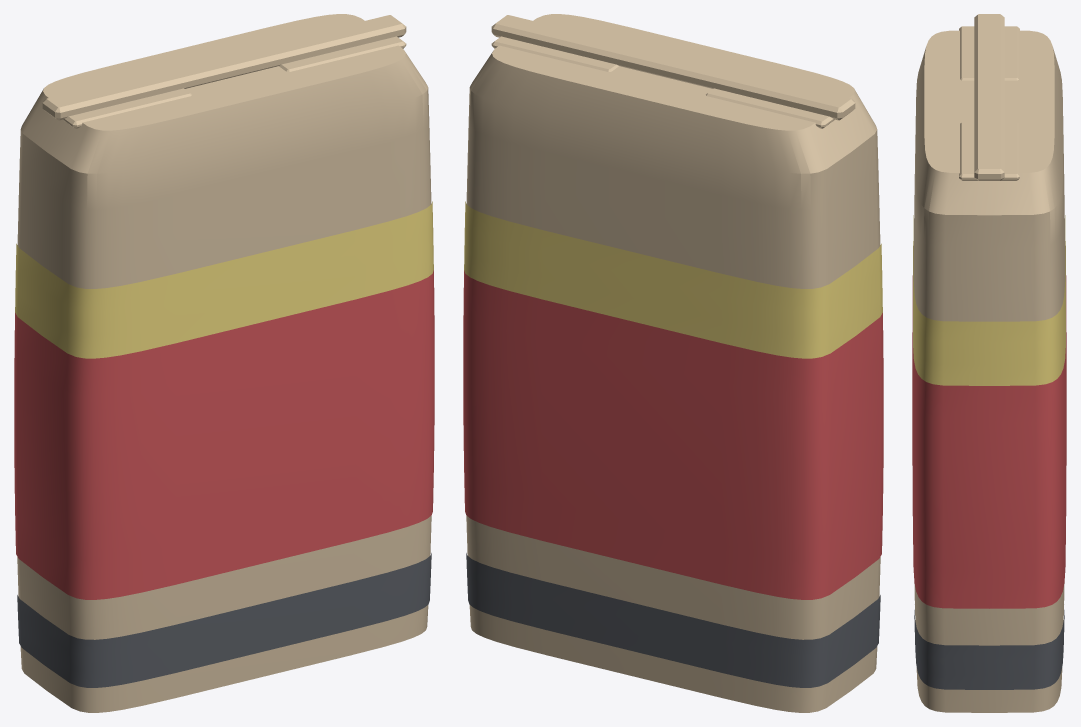
File: fresh-produce-and-groceries-cereal-box-bb7044b3__24421.glb
3 views of the same model, side by side, from view 1: azimuth 30°, elevation 25°; view 2: azimuth 150°, elevation 25°; view 3: azimuth 270°, elevation 25° (orthographic). The views are drawn at different scales.
Parts seen in each view (by area): view 1: cereal-box; view 2: cereal-box; view 3: cereal-box.
Boxes of the visible parts, x1,y1,x2,y2 form: cereal-box: (14, 14, 434, 712); cereal-box: (463, 14, 883, 712); cereal-box: (912, 14, 1066, 712).
Size of the model in its own units: 0.2068 by 0.316 by 0.0815.
